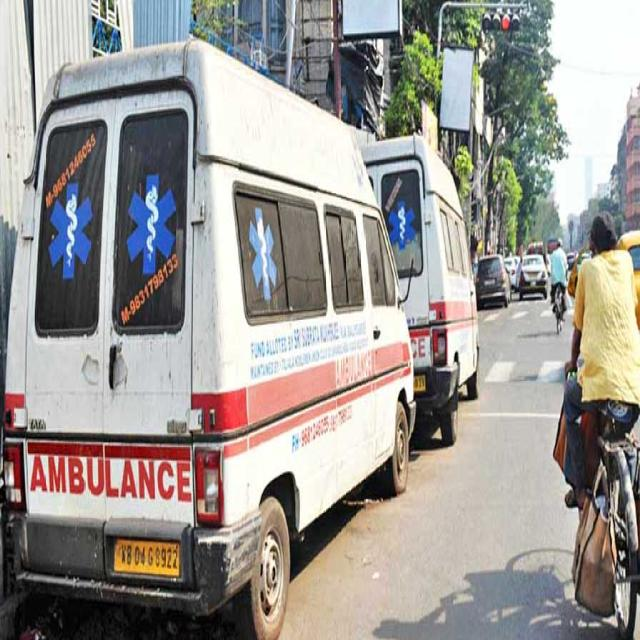bicycle: (561, 213, 640, 637), (550, 240, 568, 330)
car: (476, 256, 510, 309), (519, 256, 548, 299), (504, 256, 520, 290)
emergency: (0, 40, 416, 638), (362, 133, 479, 443)
